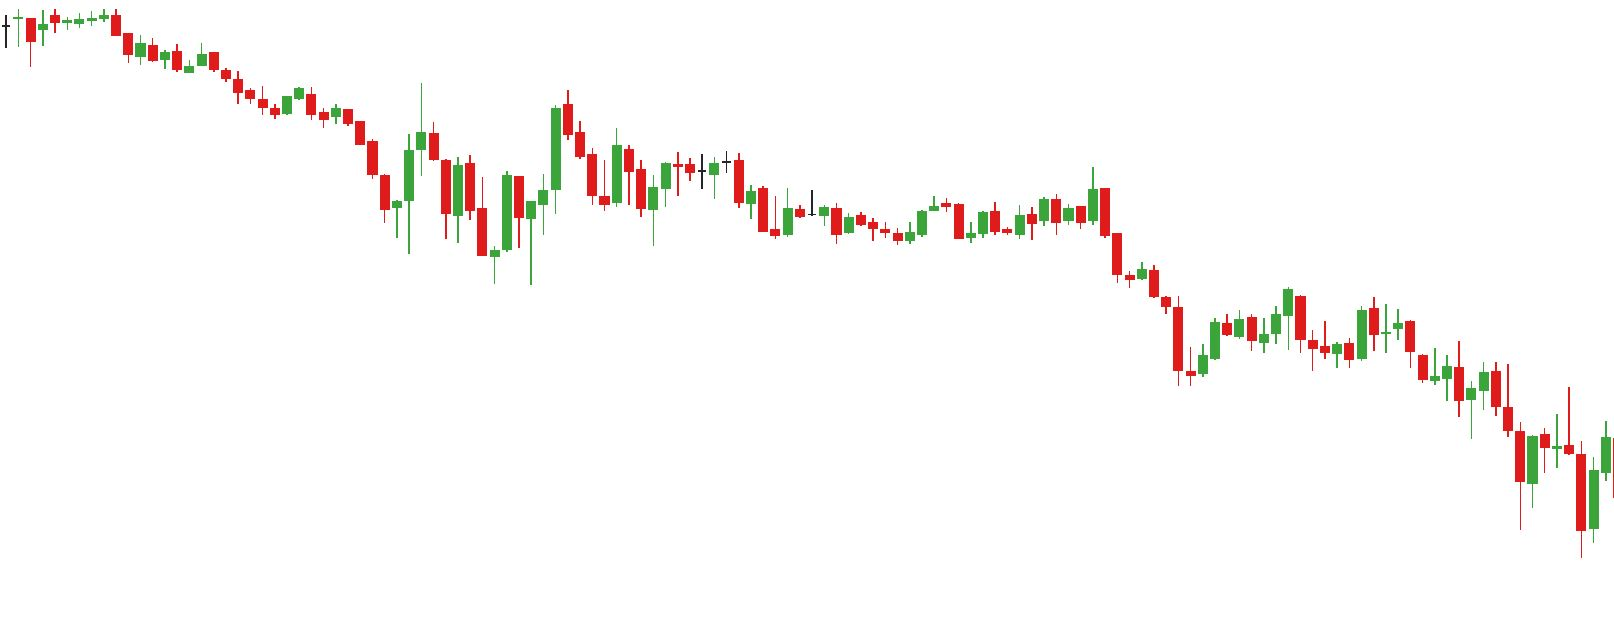buy: (402, 164, 513, 285)
